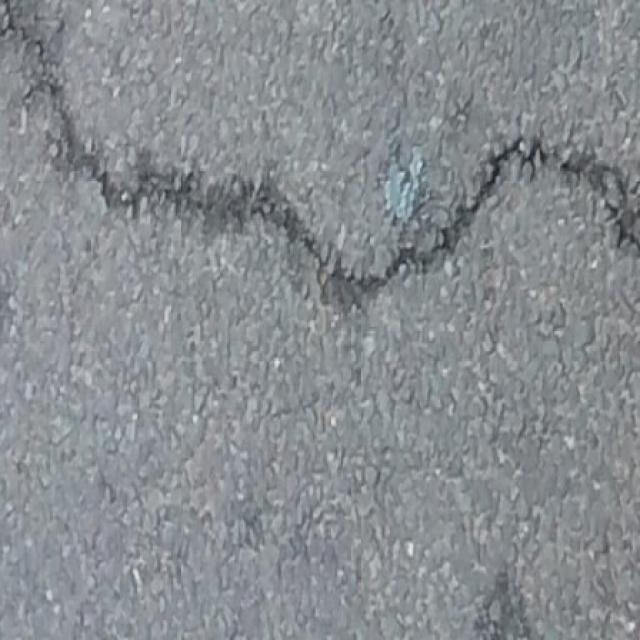Diagonal Crack: (0, 3, 640, 303)
